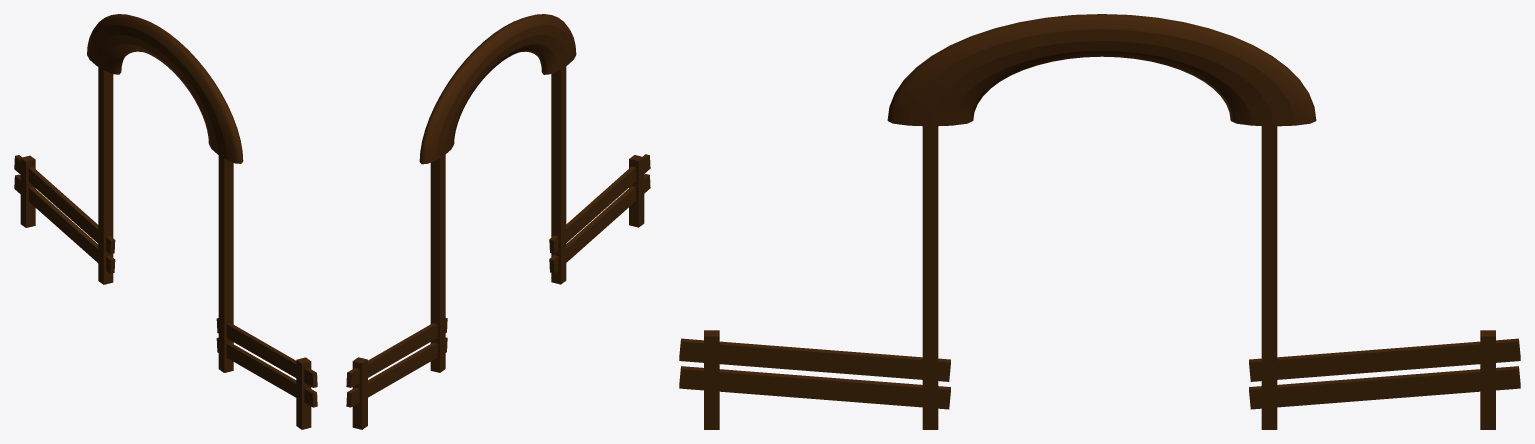
File: portti.fbx
The picture shows the model from 3 angles, left to right: view 1: azimuth 30°, elevation 25°; view 2: azimuth 150°, elevation 25°; view 3: azimuth 270°, elevation 25°; orthographic projection. The views are drawn at different scales.
Parts seen in each view (by area): view 1: Torus; view 2: Torus; view 3: Torus.
Boxes of the visible parts, box(x1,y1,x2,y2) form: Torus: box(14, 14, 317, 429); Torus: box(346, 14, 650, 429); Torus: box(679, 14, 1520, 429).
Size of the model in its own units: 1637 by 50.77 by 885.
